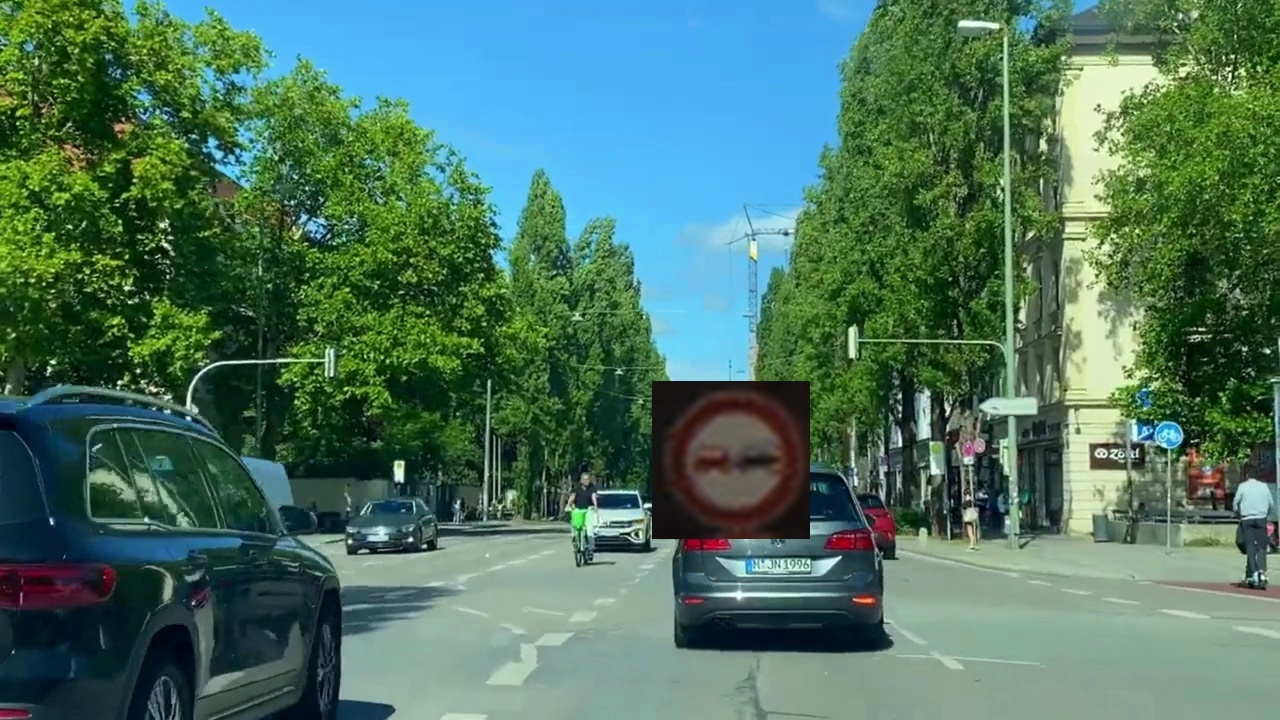No passing: (652, 381, 810, 539)
